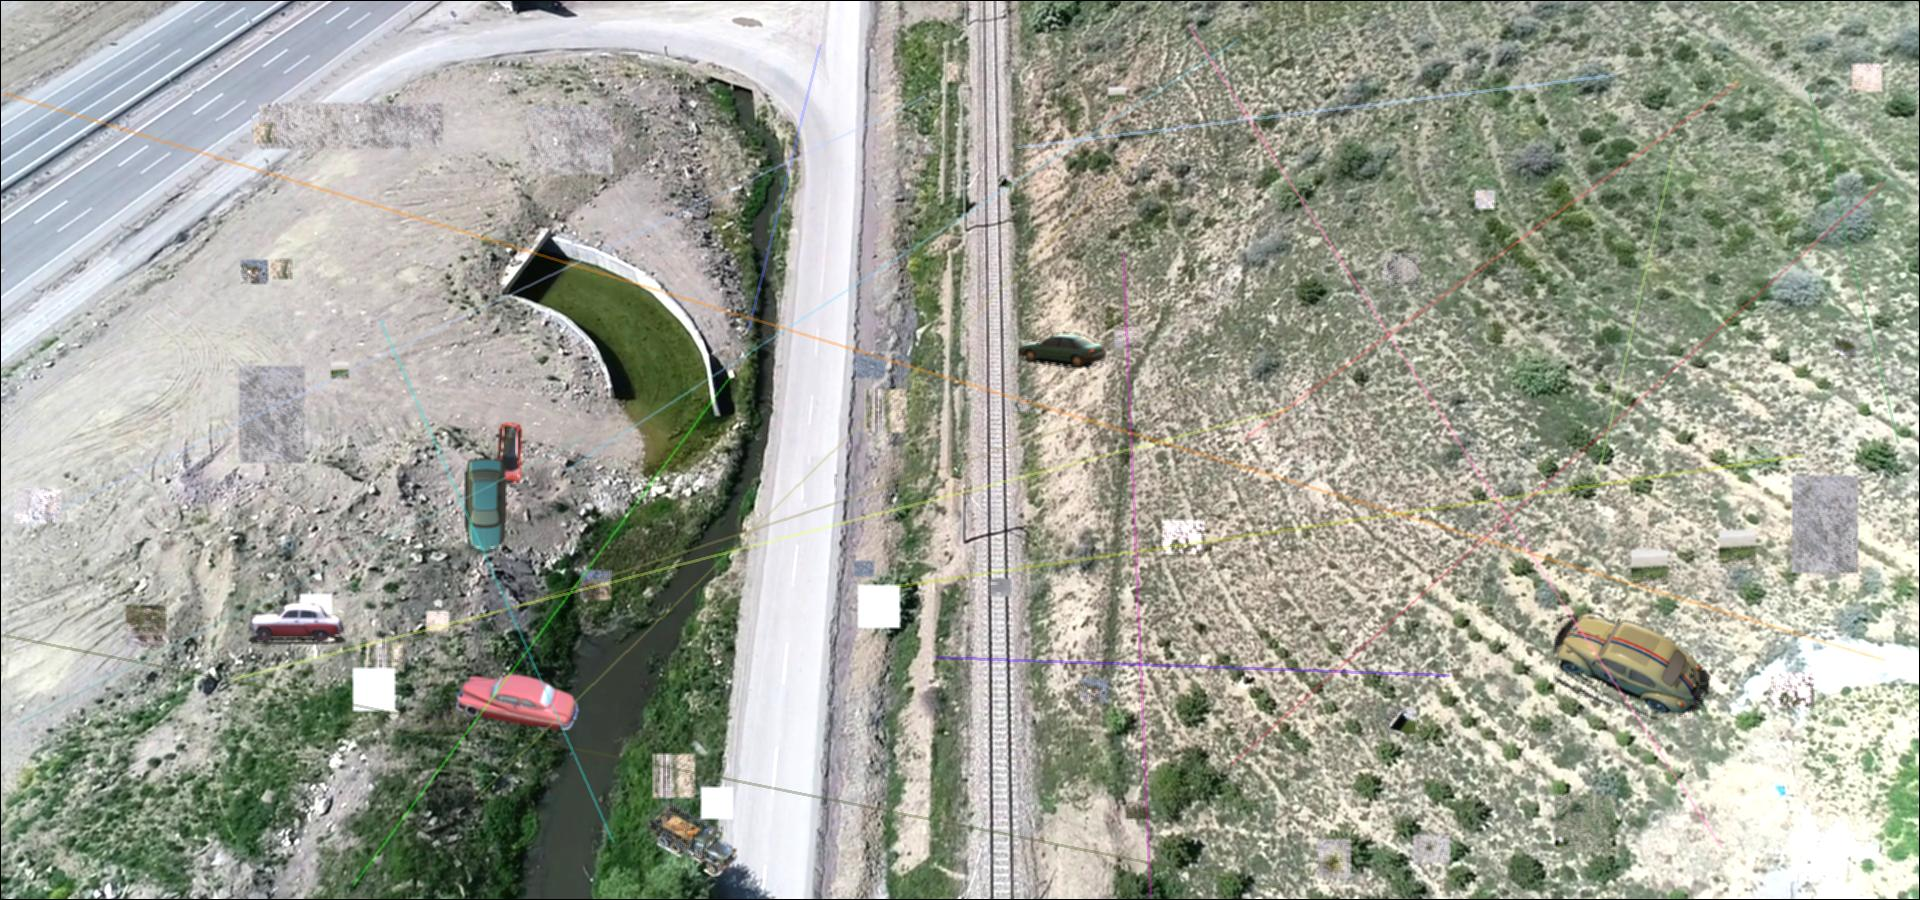arac: (1554, 612, 1709, 719), (456, 673, 579, 732), (648, 802, 738, 876), (464, 456, 509, 556), (249, 604, 345, 647), (1018, 331, 1107, 369), (493, 422, 524, 486)
